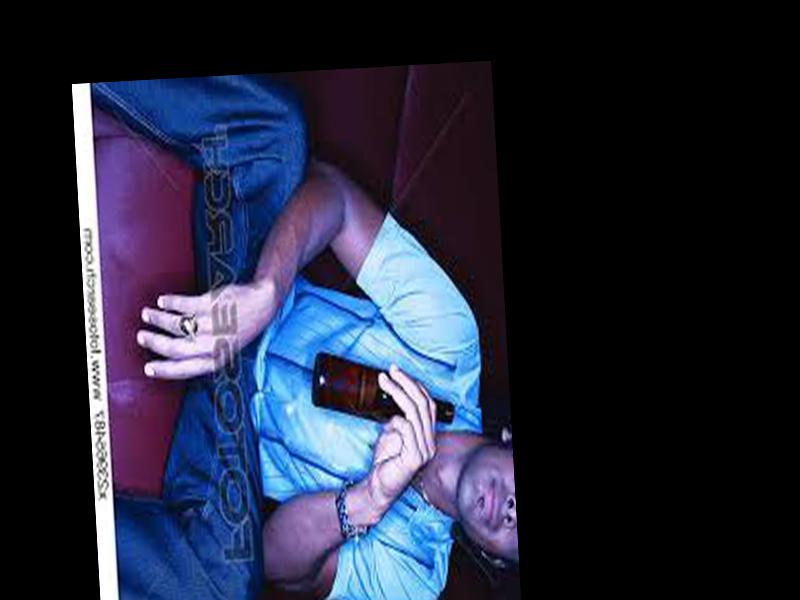Beer: (310, 343, 455, 432)
